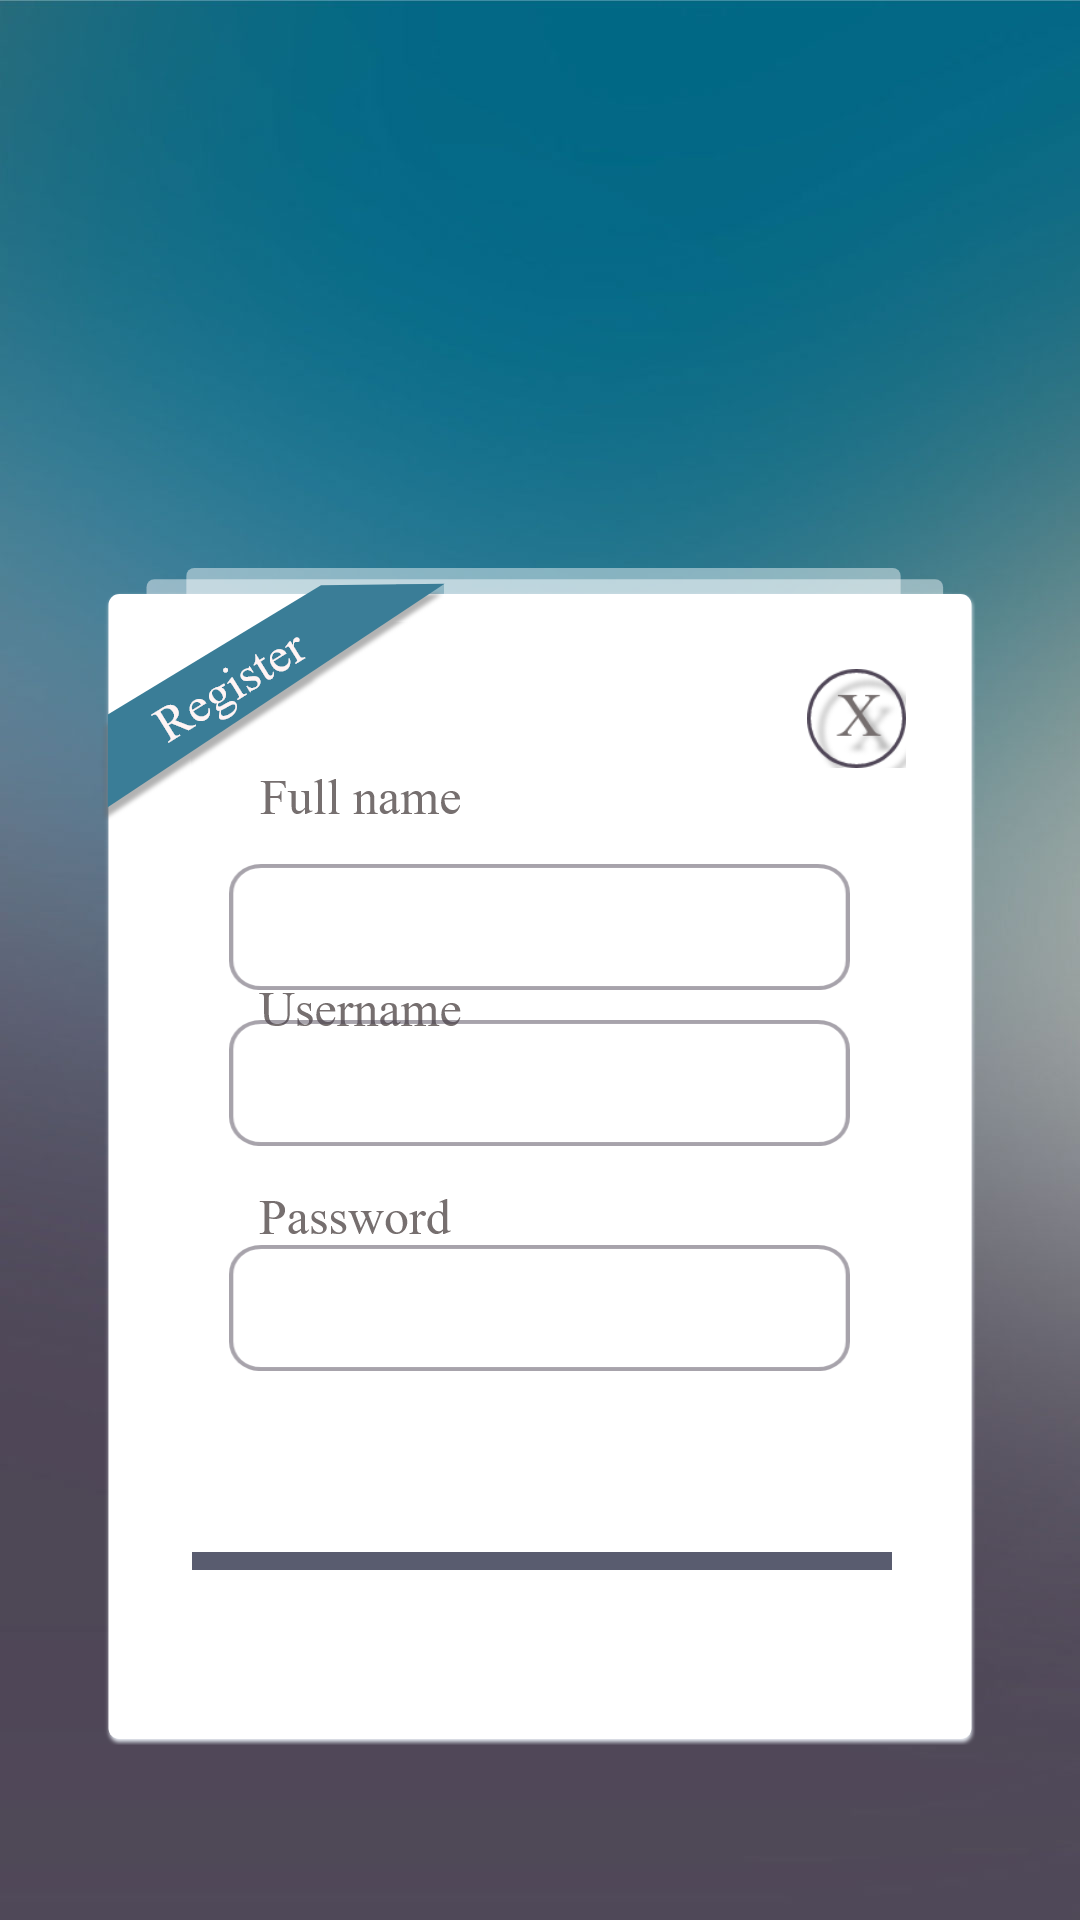

Screen size 1080 × 1920. Icon name, then its box in pixels as (x1, y1, x2, y2):
btnclose: (807, 669, 906, 768)
